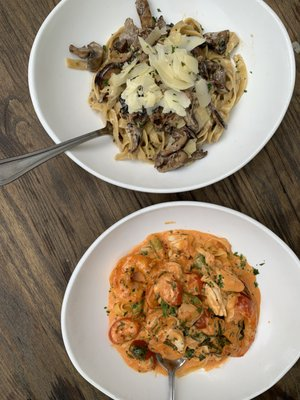salad: (0, 123, 111, 191)
sushi: (61, 201, 297, 400)
